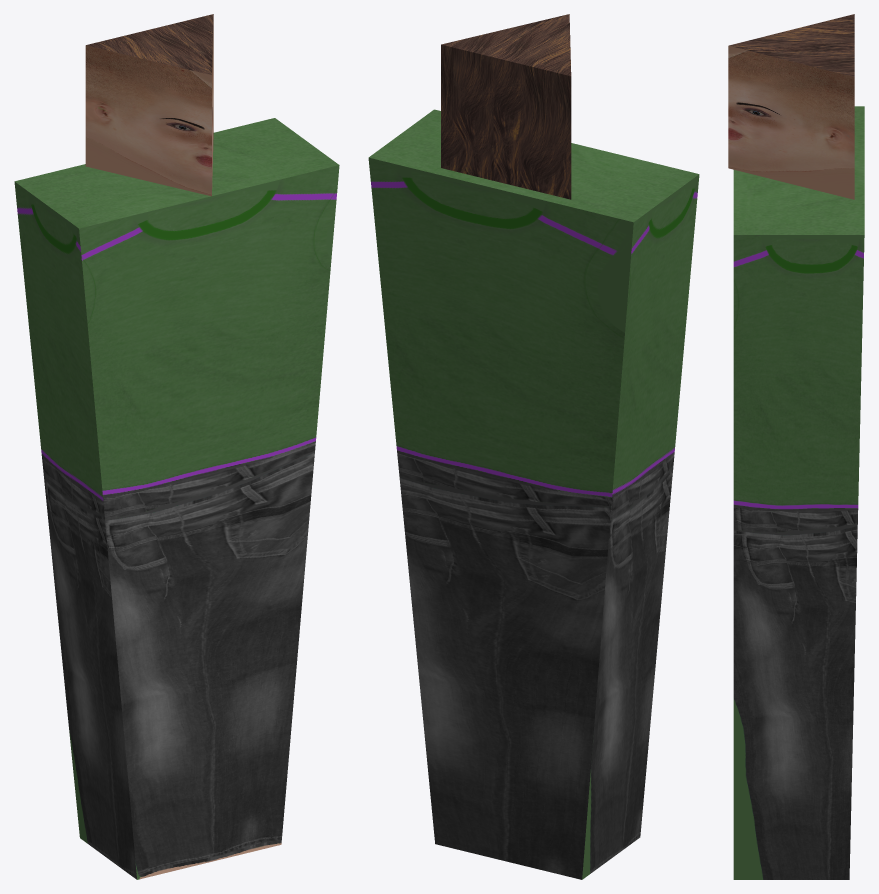
File: woman-casual-cbj_LOD03.gltf
3 renders of one model, left to right at view 1: azimuth 30°, elevation 25°; view 2: azimuth 150°, elevation 25°; view 3: azimuth 270°, elevation 25°, orthographic.
Parts seen in each view (by area): view 1: Cube; view 2: Cube; view 3: Cube.
Boxes of the visible parts, x1=… form: Cube: x1=14, y1=14, x2=339, y2=879; Cube: x1=368, y1=14, x2=699, y2=879; Cube: x1=728, y1=14, x2=864, y2=879.
Size of what is drawn, in the model's own units: 0.5542 by 1.6 by 0.2478.
